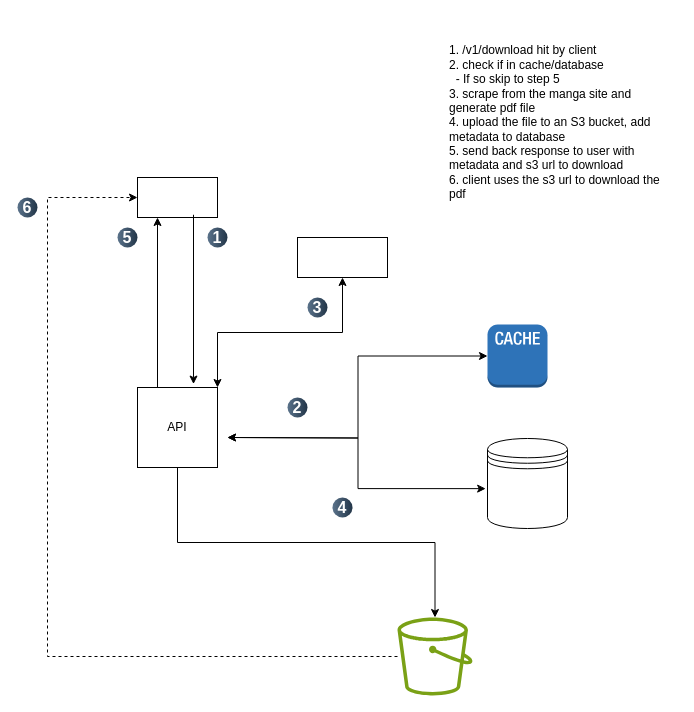
Some shapes in this 694 by 712 pixel diagram are drawn without their labels. The shapes that lost their labels are listed below. From the top down, each one's centre as x and y in pixels, then its label:
(x=177, y=197): Client
(x=342, y=257): Manga Site(s)
(x=527, y=483): DB
